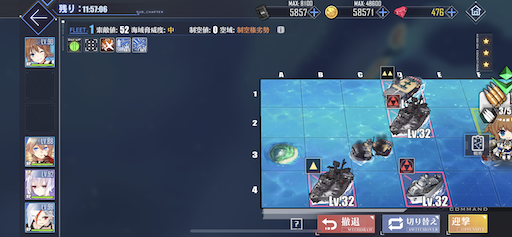lv1: (306, 157, 355, 207)
lv3: (398, 157, 448, 206), (385, 95, 433, 138)
